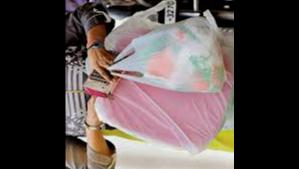Plastic: (97, 69, 230, 152), (111, 15, 228, 89)
